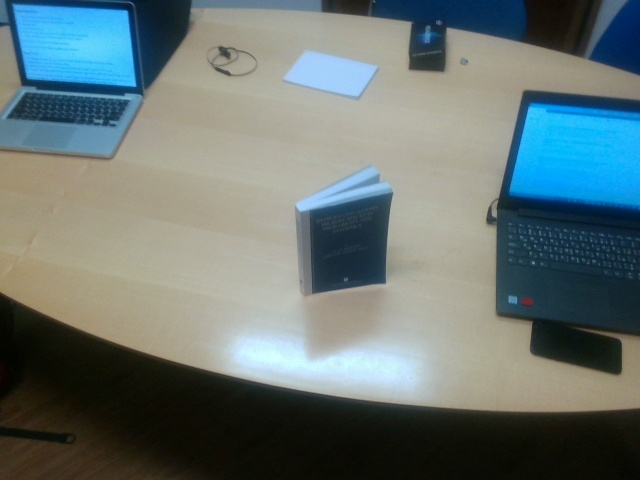book: (295, 202, 385, 282)
